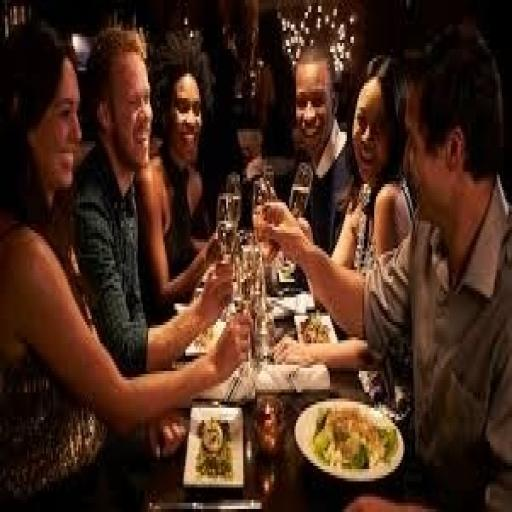eating: (2, 15, 508, 503), (0, 18, 253, 505)
